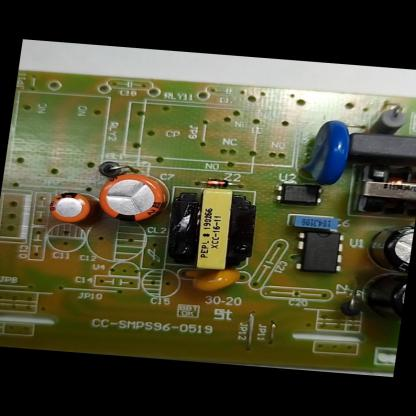Cap1: (90, 166, 172, 231)
Cap2: (38, 187, 103, 231)
Cap3: (363, 217, 415, 275)
Cap4: (353, 266, 408, 326)
MOSFET: (289, 226, 351, 278)
Mov: (296, 114, 358, 192)
Resistor: (368, 101, 412, 138)
Transformer: (162, 182, 266, 275), (349, 156, 416, 221)
